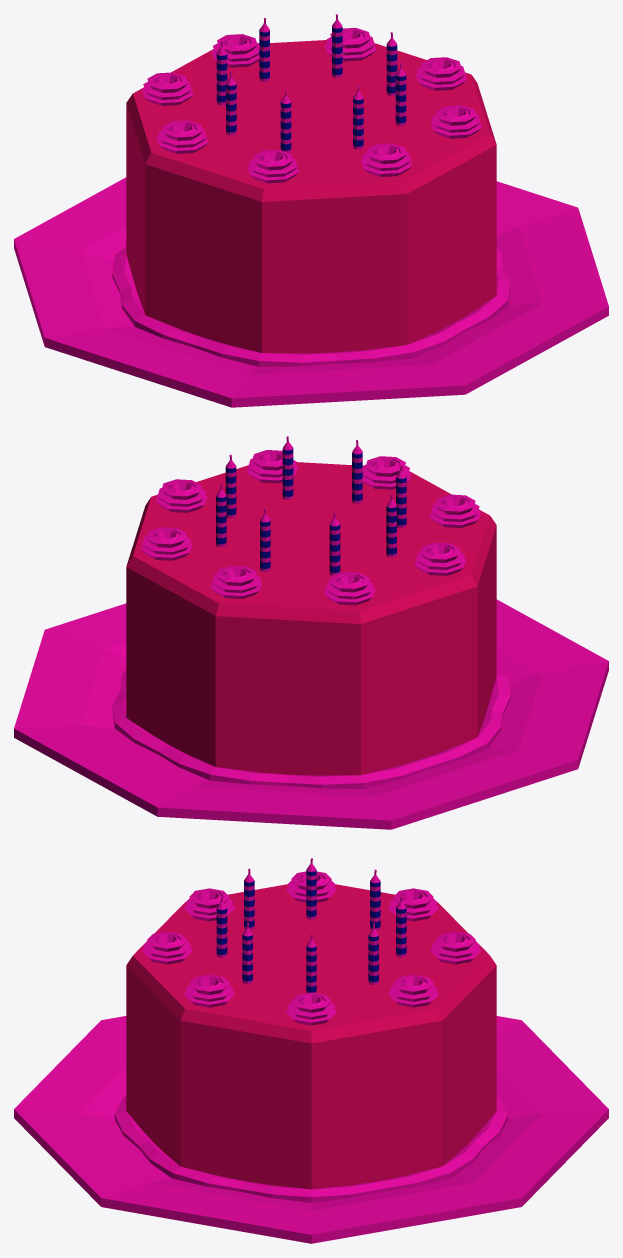
File: Cake_01.fbx
The picture shows the model from 3 angles, top to bottom: view 1: azimuth 30°, elevation 25°; view 2: azimuth 150°, elevation 25°; view 3: azimuth 270°, elevation 25°; orthographic projection. The views are drawn at different scales.
Parts seen in each view (by area): view 1: Cake_01; view 2: Cake_01; view 3: Cake_01.
Part boxes in pixels (left/top/right/bottom): Cake_01: left=14, top=14, right=608, bottom=407; Cake_01: left=14, top=436, right=608, bottom=829; Cake_01: left=14, top=858, right=608, bottom=1243.
Bounding box in the file's own units: 13.53 × 6.16 × 13.53.
